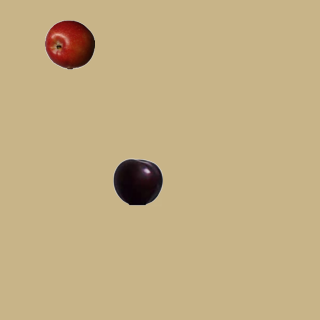Apple Braeburn: (44, 19, 94, 69)
Cherry Wax Black: (112, 156, 162, 206)
